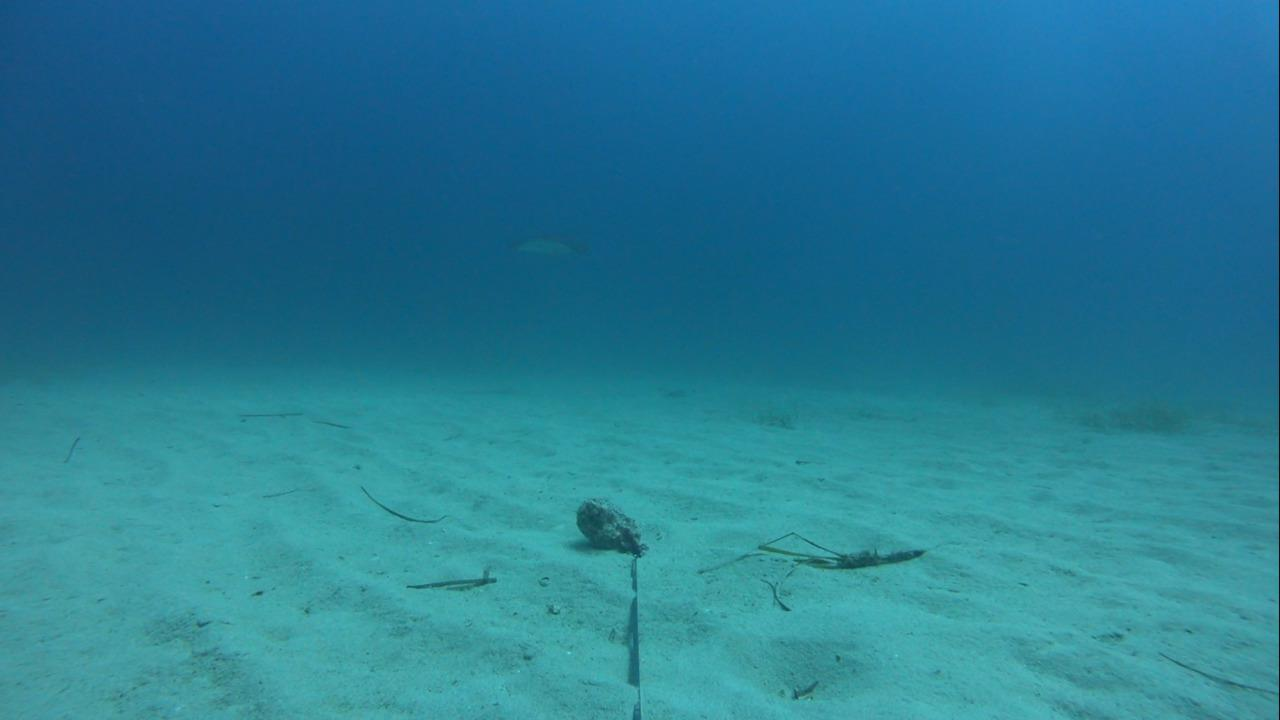myliobatis: (494, 221, 596, 267)
